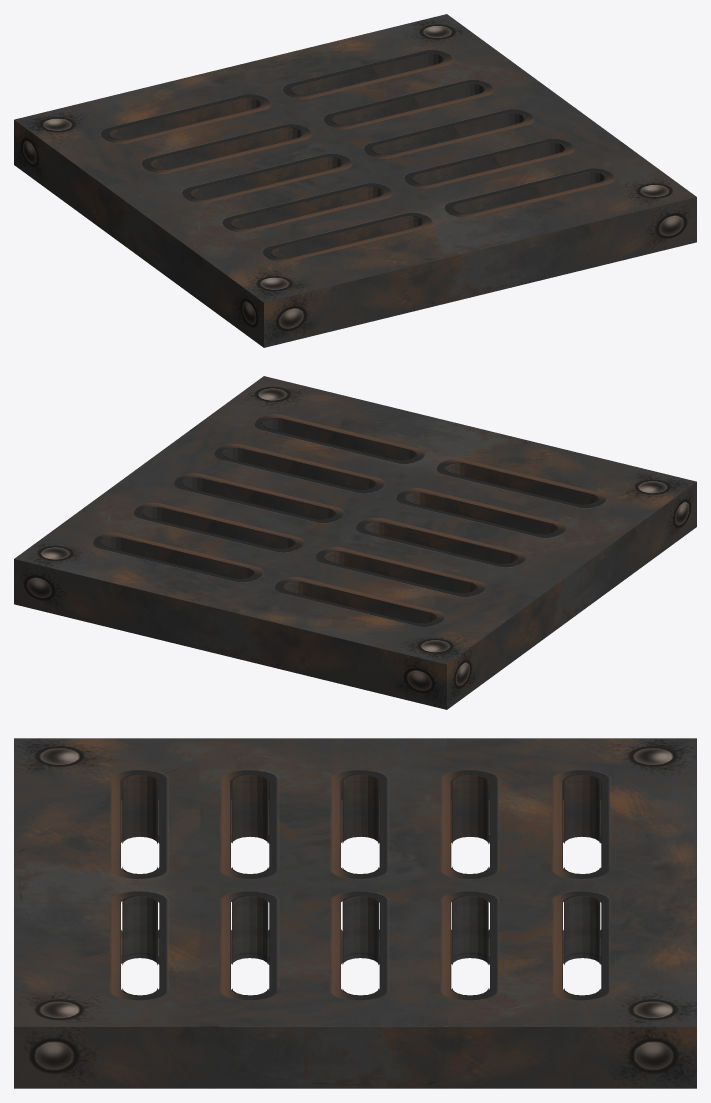
File: grate.fbx
3 views of the same model, one above another, from view 1: azimuth 30°, elevation 25°; view 2: azimuth 150°, elevation 25°; view 3: azimuth 270°, elevation 25° (orthographic). The views are drawn at different scales.
Visible parts, largest first — view 1: Grate; view 2: Grate; view 3: Grate.
Boxes of the visible parts, x1=… form: Grate: x1=14, y1=14, x2=696, y2=347; Grate: x1=14, y1=376, x2=696, y2=709; Grate: x1=14, y1=738, x2=696, y2=1088.
Bounding box in the file's own units: 500 × 50 × 500.
